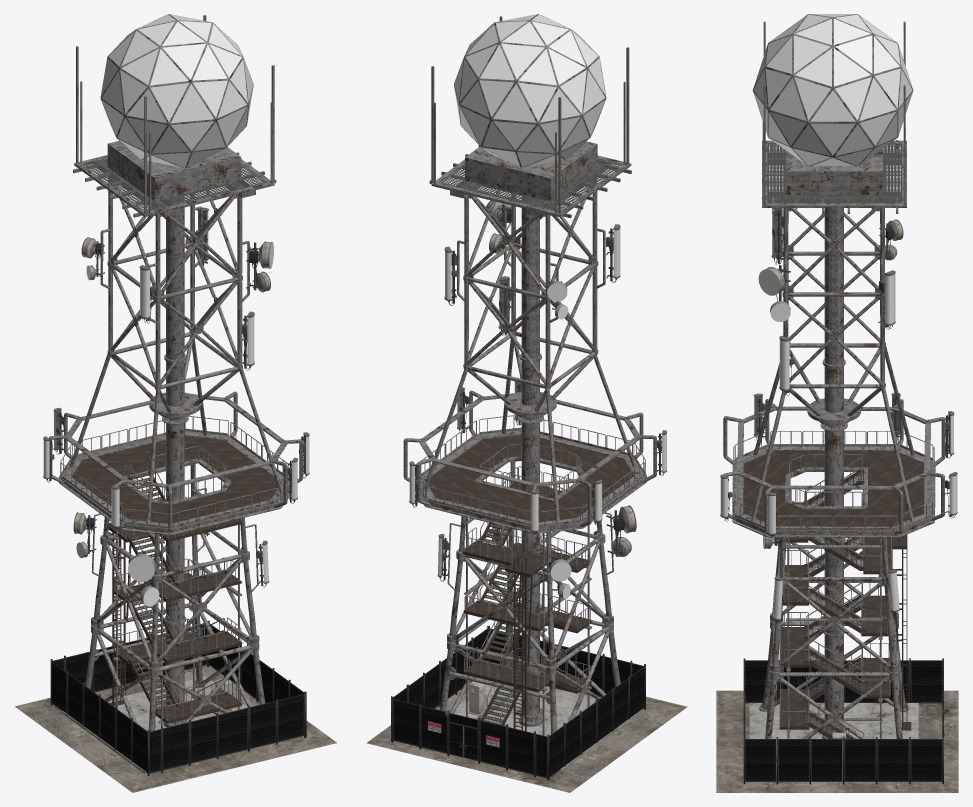
The model's file is RelayTower.FBX.
3 renders of one model, left to right at view 1: azimuth 30°, elevation 25°; view 2: azimuth 150°, elevation 25°; view 3: azimuth 270°, elevation 25°, orthographic. The views are drawn at different scales.
Parts seen in each view (by area): view 1: Tower, Fence, Ground; view 2: Tower, Fence, Ground; view 3: Tower, Fence, Ground.
Part boxes in pixels (left/top/right/bottom): Tower: left=43, top=14, right=309, bottom=773; Fence: left=50, top=620, right=306, bottom=775; Ground: left=15, top=665, right=336, bottom=792; Tower: left=403, top=14, right=666, bottom=771; Fence: left=391, top=626, right=645, bottom=780; Ground: left=366, top=677, right=687, bottom=792; Tower: left=720, top=14, right=957, bottom=775; Fence: left=743, top=658, right=943, bottom=784; Ground: left=716, top=690, right=958, bottom=792.
Size of the model in its own units: 14.07 by 46.22 by 14.
17 materials, 14 textured.
